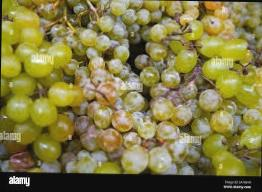Grape Rotten: (0, 0, 262, 176)
